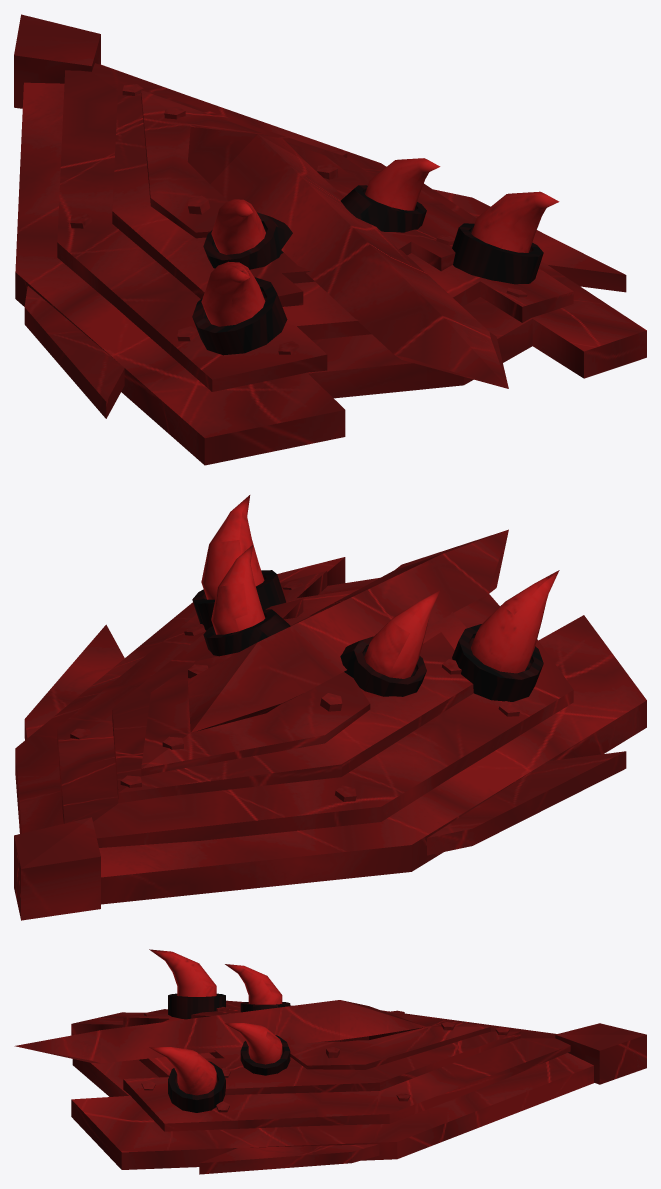
The model's file is DemonShield.fbx.
The picture shows the model from 3 angles, top to bottom: view 1: azimuth 30°, elevation 25°; view 2: azimuth 150°, elevation 25°; view 3: azimuth 270°, elevation 25°; orthographic projection. The views are drawn at different scales.
Visible parts, largest first — view 1: DemonShield; view 2: DemonShield; view 3: DemonShield.
Part boxes in pixels (bbox=[...]): DemonShield: bbox=[14, 14, 646, 465]; DemonShield: bbox=[14, 495, 646, 920]; DemonShield: bbox=[14, 949, 646, 1174].
Bounding box in the file's own units: 49.85 × 17.63 × 81.01.
